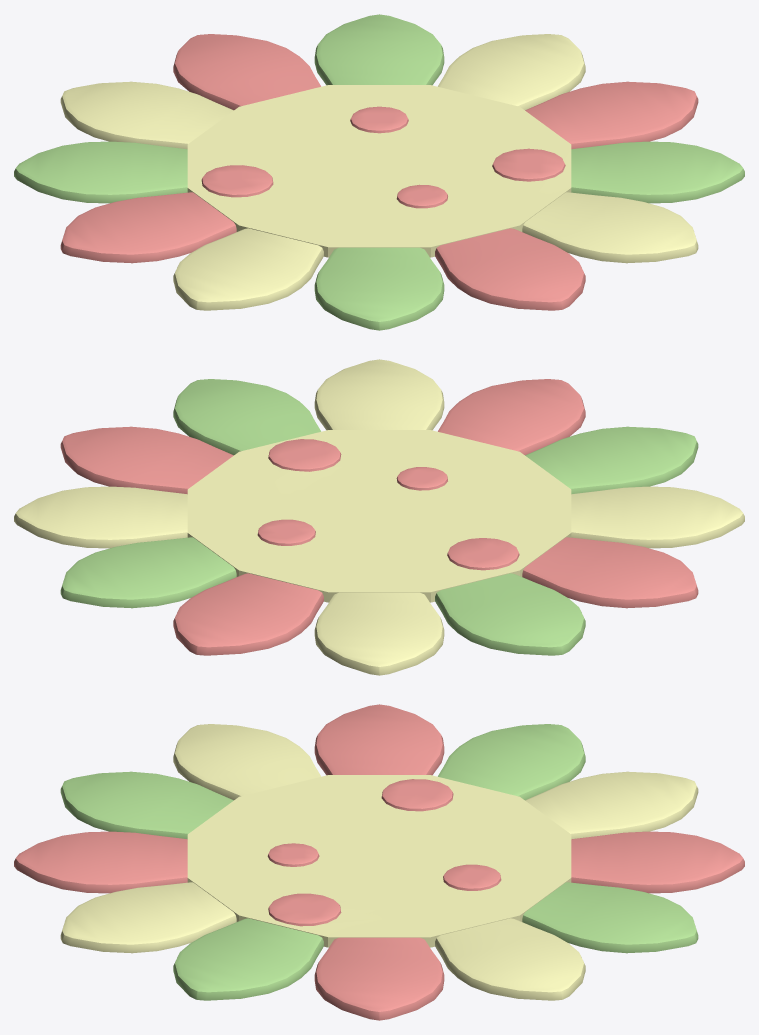
File: FlowerRug.fbx
The picture shows the model from 3 angles, top to bottom: view 1: azimuth 30°, elevation 25°; view 2: azimuth 150°, elevation 25°; view 3: azimuth 270°, elevation 25°; orthographic projection.
Parts seen in each view (by area): view 1: Petals, Centre; view 2: Petals, Centre; view 3: Petals, Centre.
Part boxes in pixels (<box>): Petals: <box>14,14,744,330</box>; Centre: <box>187,85,571,257</box>; Petals: <box>14,359,744,675</box>; Centre: <box>187,430,571,602</box>; Petals: <box>14,704,744,1020</box>; Centre: <box>187,775,571,947</box>.
Size of the model in its own units: 104 by 2.07 by 104.
